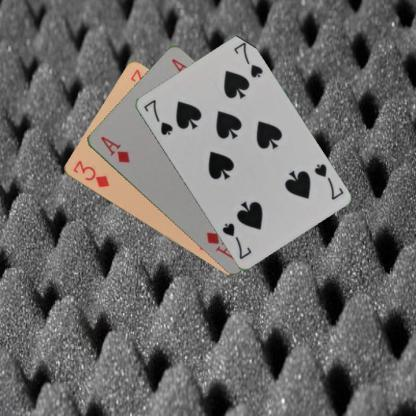3d: (70, 158, 111, 189)
7s: (311, 160, 345, 202), (140, 96, 174, 136)
Ad: (98, 134, 131, 164)
